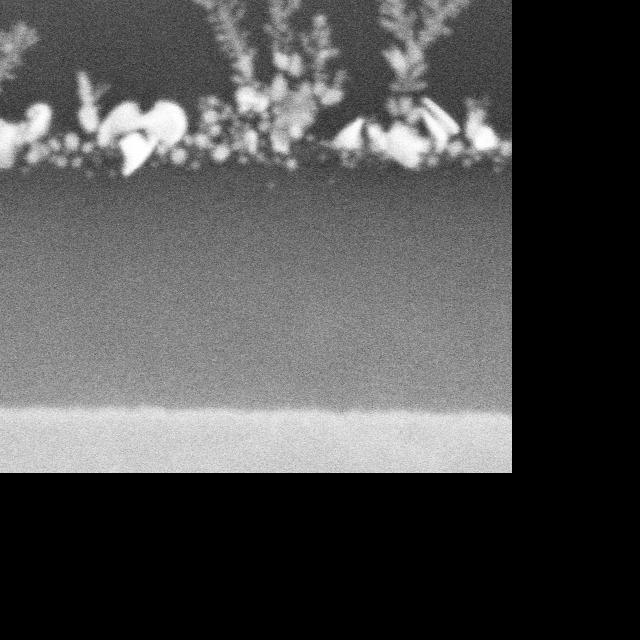Dendrite: (0, 0, 345, 177), (329, 0, 511, 174)
